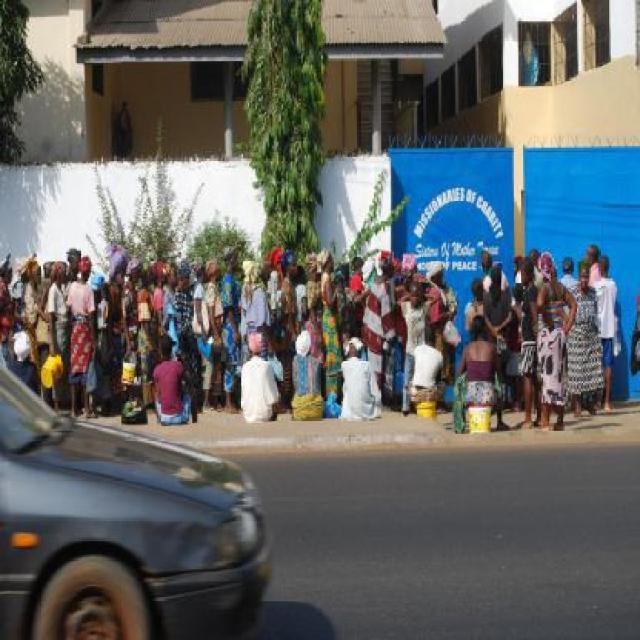Person: (0, 246, 638, 435)
